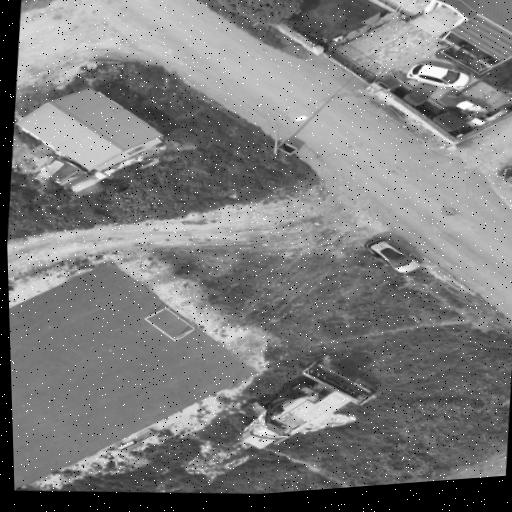car: (365, 238, 420, 273), (408, 64, 469, 90)
harvester: (243, 361, 376, 448)
person: (369, 253, 380, 260)
